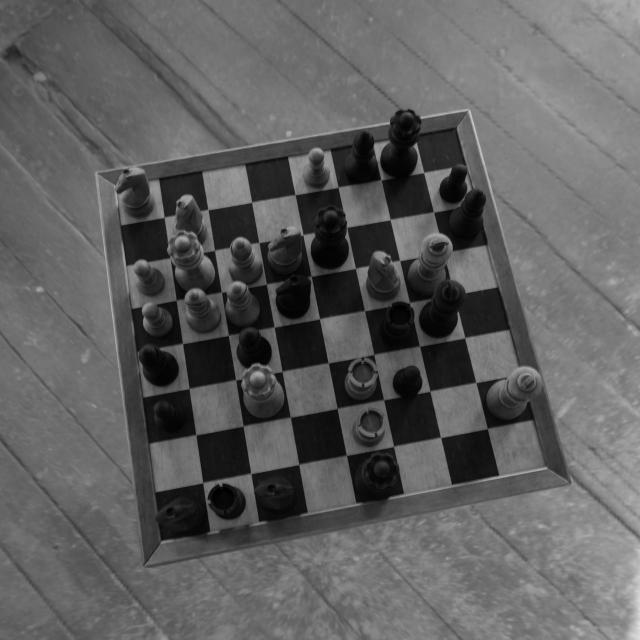chessboard: (115, 129, 545, 537)
